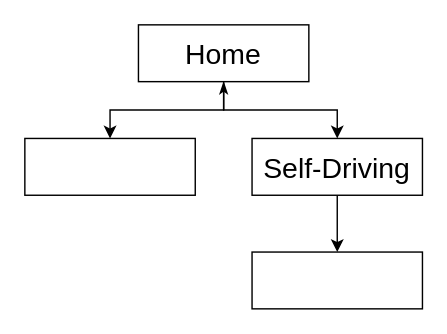
The diagram is 447 pixels wide and 334 high, and some of its shapes have lost their labels. Here are the shapes that lost their labels. From the top down, the box of each, then its label:
(23, 137, 195, 195): Joystick
(251, 251, 422, 309): Peer
